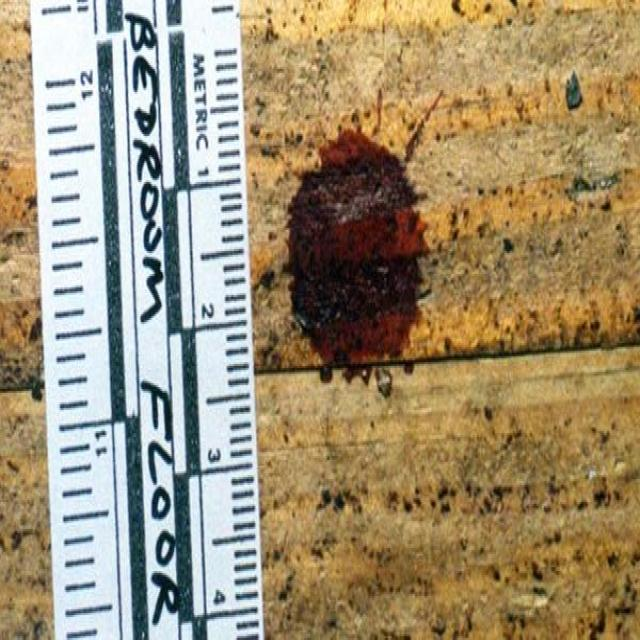flood: (287, 125, 428, 374)
